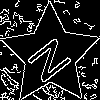N: (25, 29, 81, 86)
